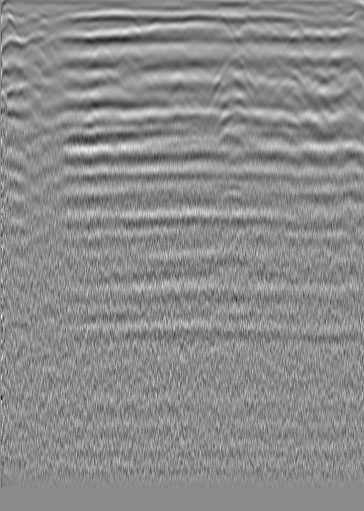가스: (210, 179, 248, 211)
상수: (309, 30, 329, 50)
오수: (24, 30, 44, 50)
우수: (164, 28, 184, 48)
